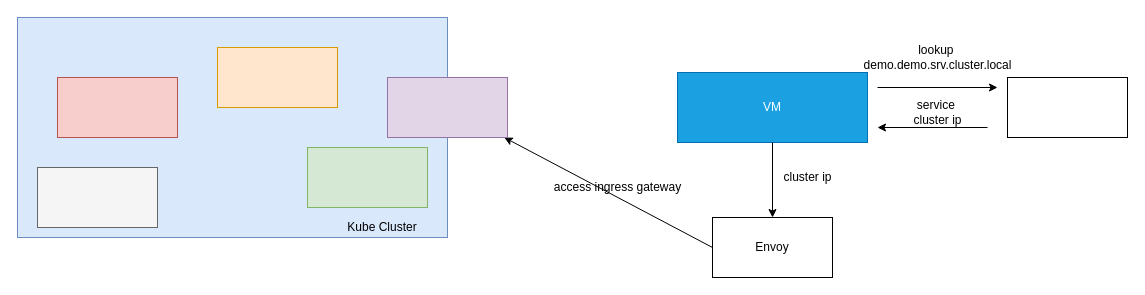
Image size: 1145x295. Some labels were removed from this diagram. Here are the shapes that lost their labels. From the top down, the centre of each, then its label:
pixel 447 107: istio ingress gateway
pixel 1067 107: DNS Proxy
